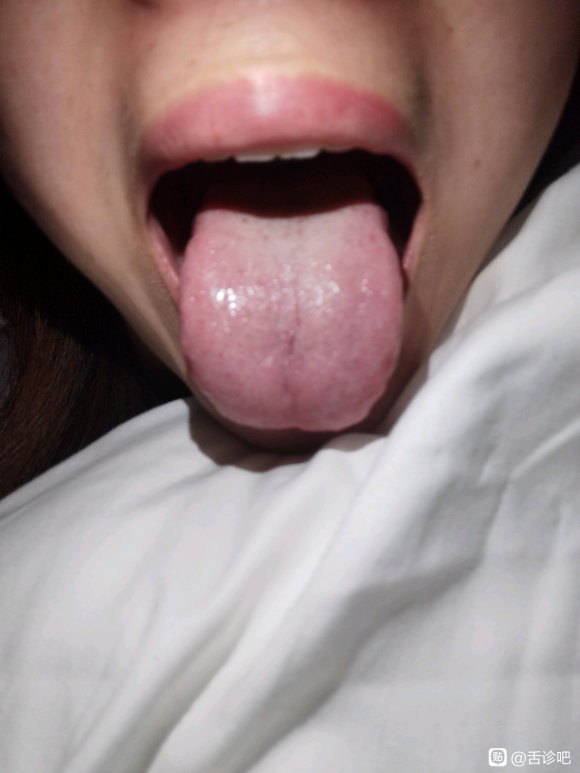baitaishe: (179, 192, 403, 432)
